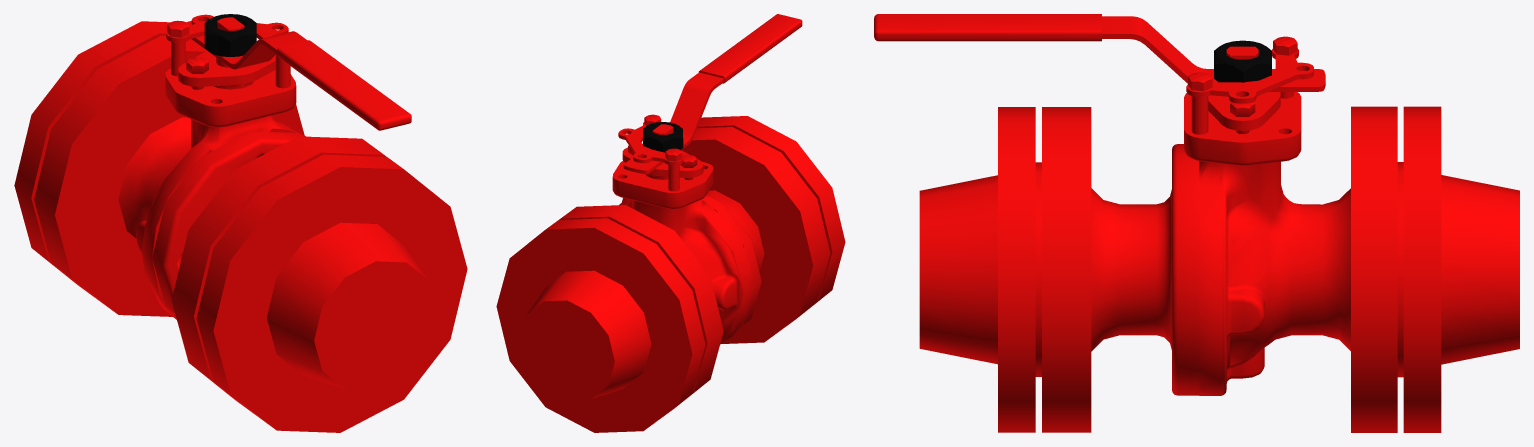
File: Ball_Valve_V1.fbx
3 views of the same model, side by side, from view 1: azimuth 30°, elevation 25°; view 2: azimuth 150°, elevation 25°; view 3: azimuth 270°, elevation 25° (orthographic). The views are drawn at different scales.
Parts seen in each view (by area): view 1: Ball_Valve_V1_, Object002; view 2: Ball_Valve_V1_, Object002; view 3: Ball_Valve_V1_, Object002.
Part boxes in pixels (x1=…): Ball_Valve_V1_: x1=14, y1=14, x2=467, y2=432; Object002: x1=186, y1=14, x2=411, y2=130; Ball_Valve_V1_: x1=496, y1=114, x2=845, y2=432; Object002: x1=623, y1=14, x2=802, y2=174; Ball_Valve_V1_: x1=919, y1=36, x2=1519, y2=432; Object002: x1=874, y1=14, x2=1325, y2=96.
Size of the model in its own units: 18.99 by 25.33 by 37.42.
